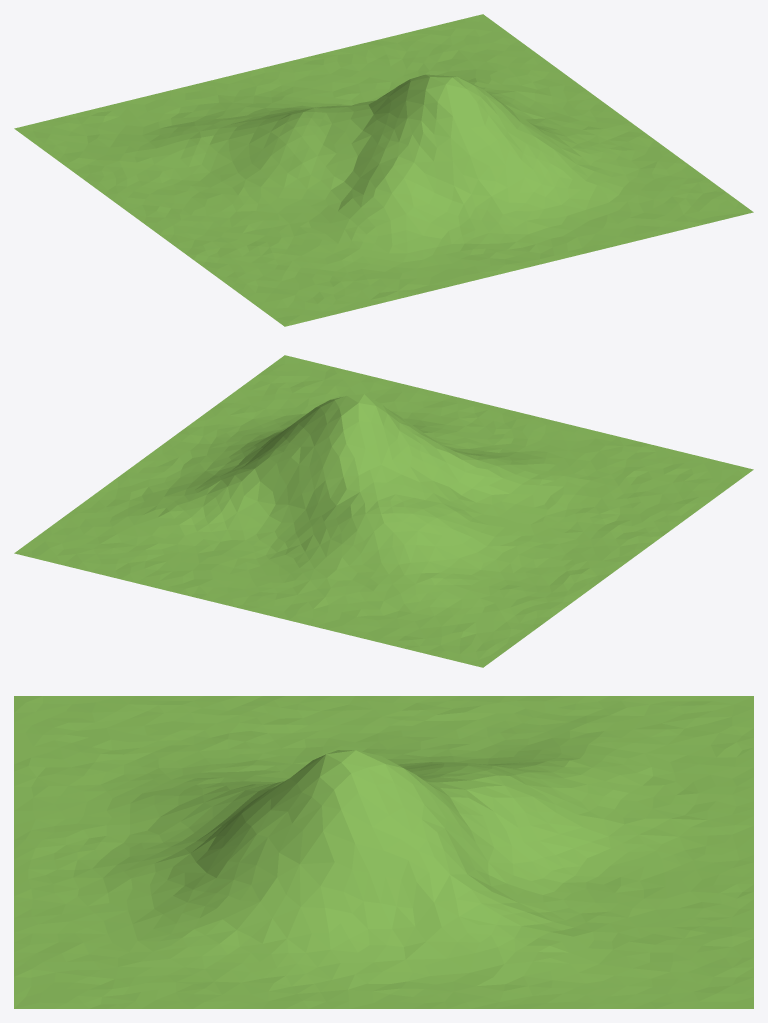
File: MT_Terrain_L_a_33.fbx
The picture shows the model from 3 angles, top to bottom: view 1: azimuth 30°, elevation 25°; view 2: azimuth 150°, elevation 25°; view 3: azimuth 270°, elevation 25°; orthographic projection. The views are drawn at different scales.
Visible parts, largest first — view 1: MT_Terrain_L_a_33; view 2: MT_Terrain_L_a_33; view 3: MT_Terrain_L_a_33.
Boxes of the visible parts, x1=… form: MT_Terrain_L_a_33: x1=14, y1=14, x2=753, y2=326; MT_Terrain_L_a_33: x1=14, y1=355, x2=753, y2=667; MT_Terrain_L_a_33: x1=14, y1=696, x2=753, y2=1008.
Bounding box in the file's own units: 10000 × 1887 × 10000.
